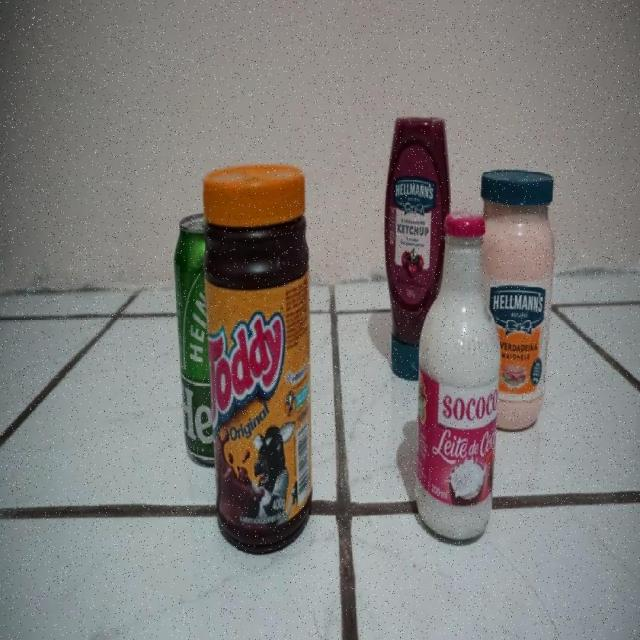BeerCan: (172, 213, 208, 466)
ChocolatePowder: (205, 168, 317, 547)
CoconutMilk: (420, 205, 499, 540)
Ketchup: (383, 108, 418, 386)
Mayonnaise: (503, 152, 560, 445)
